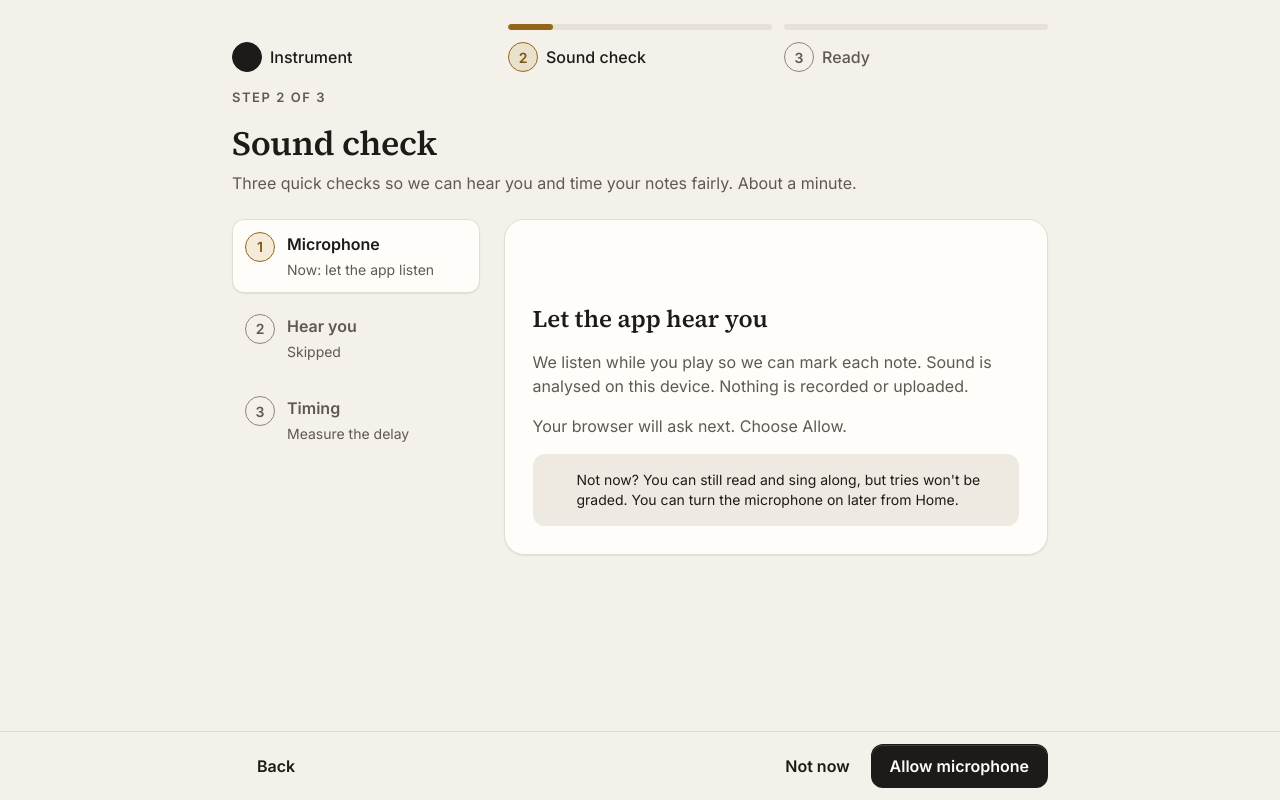
Test: OnboardingScreen › a reload mid sound check resumes there, at the Microphone stage, with the instrument kept
The width and height of the screenshot is (1280, 800).
Click the button "Allow microphone": (959, 766) x1=871 y1=744 x2=1048 y2=788
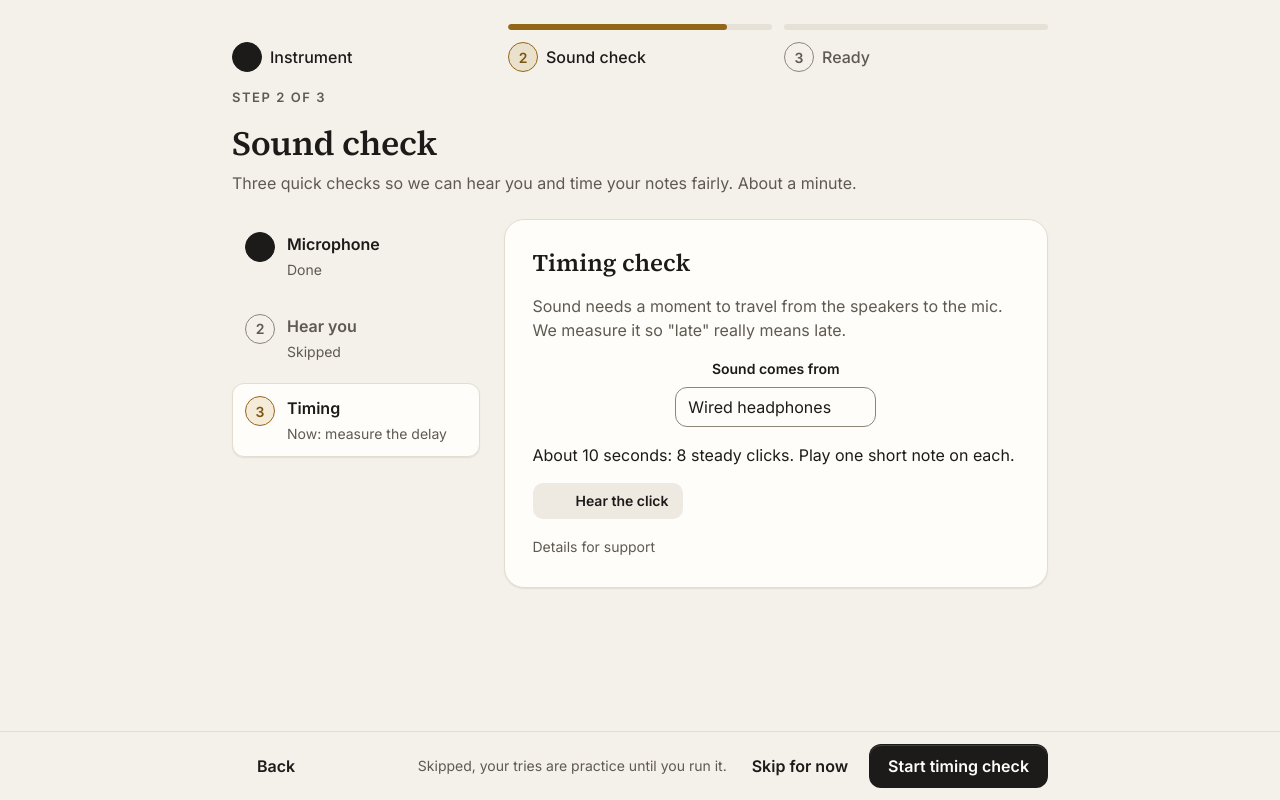
Check: the element with test id "ob-sound" has attribute data-stage="timing", box x1=232 y1=124 x2=1048 y2=588
